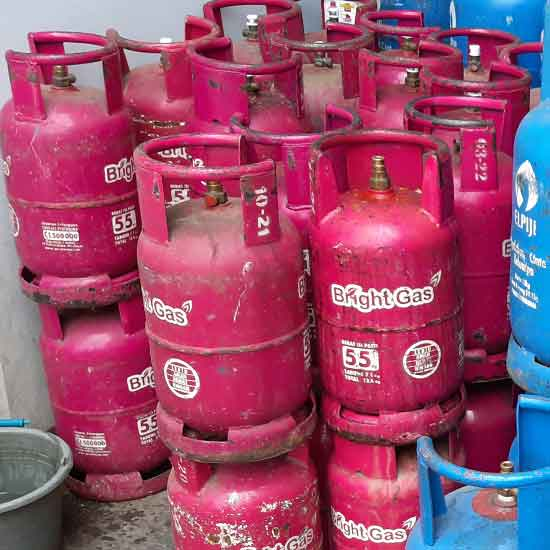blue_gas: (406, 395, 548, 550), (509, 93, 550, 396)
bright_gas: (134, 131, 311, 454), (312, 129, 465, 435), (1, 29, 144, 305), (404, 95, 512, 377), (39, 307, 172, 499), (164, 426, 320, 550), (187, 39, 306, 196), (342, 44, 462, 182), (324, 433, 461, 550), (111, 14, 222, 141), (368, 14, 519, 91)
